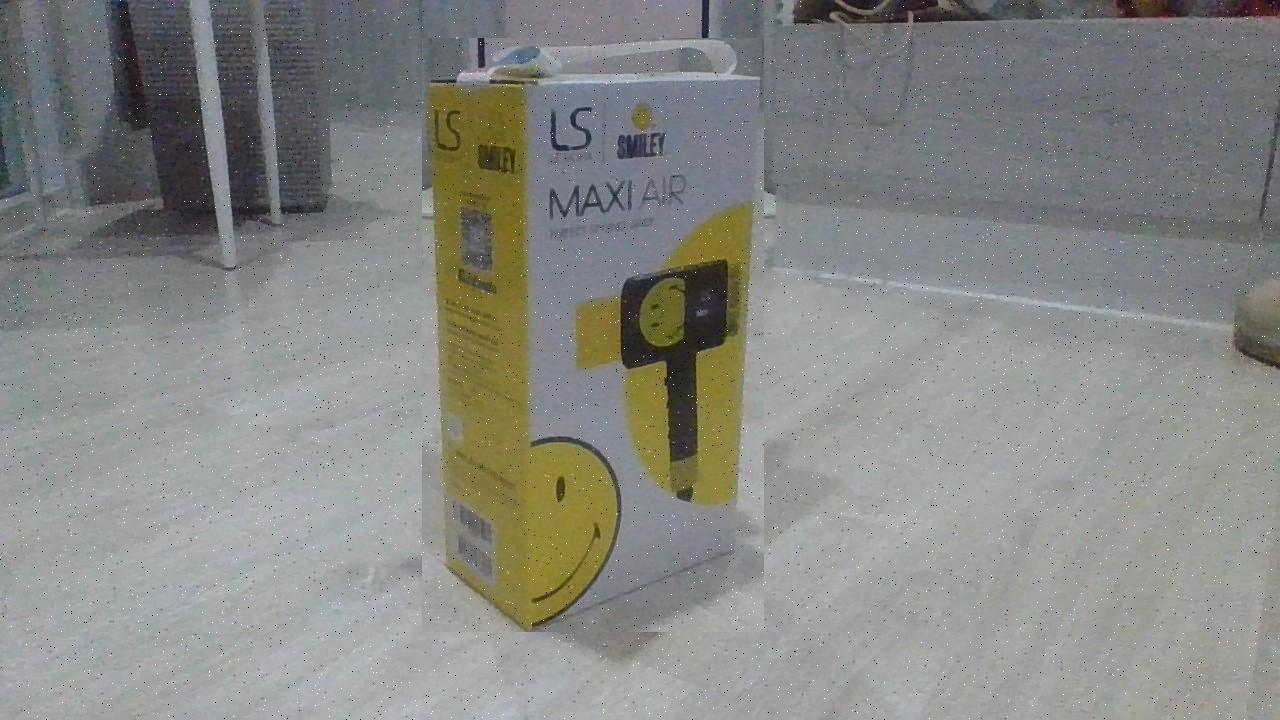Dryer: (422, 38, 764, 632)
